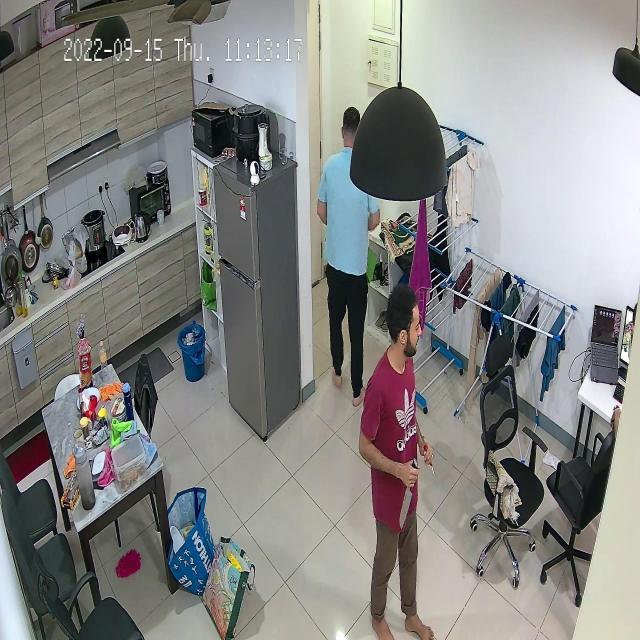Knife: (394, 465, 429, 535)
